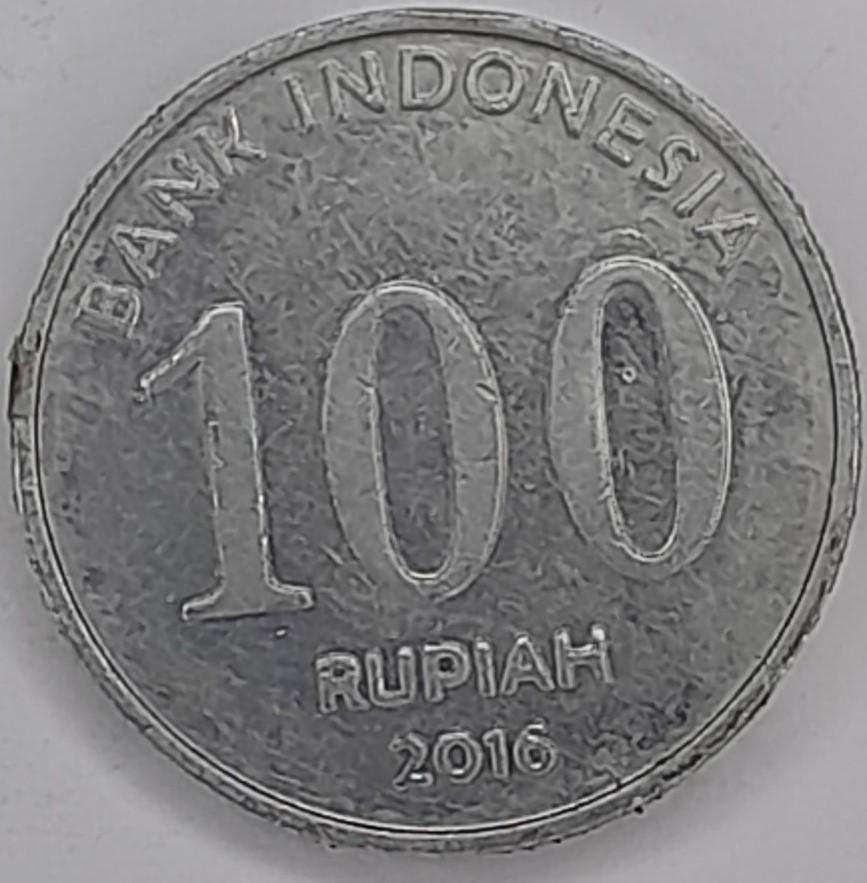coin_100_e2016: (0, 0, 866, 860)
